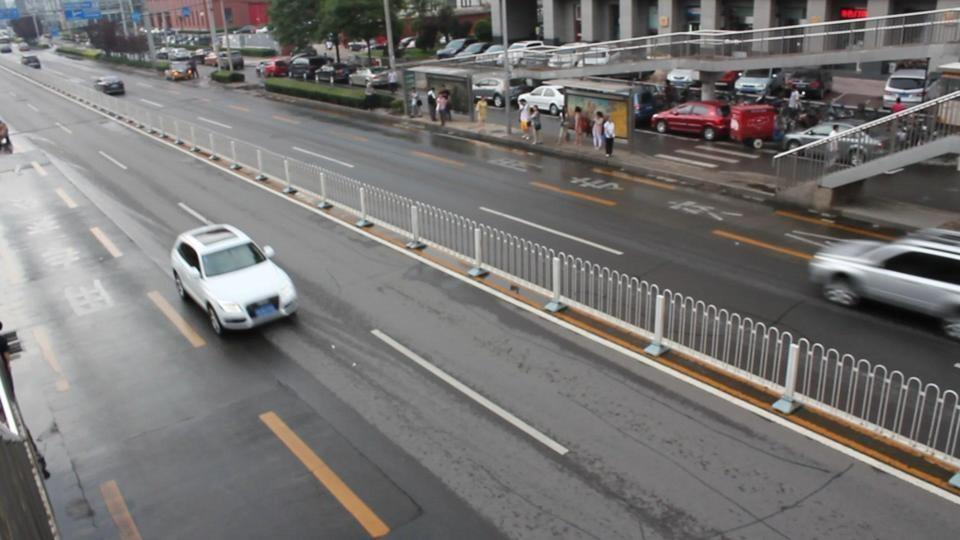car: (807, 227, 959, 337), (169, 223, 299, 336), (522, 79, 653, 126), (780, 121, 886, 163), (651, 101, 733, 141), (470, 77, 540, 108), (883, 64, 930, 108), (436, 40, 506, 63), (734, 68, 784, 100), (520, 85, 567, 115), (315, 63, 357, 86), (164, 53, 198, 80), (257, 57, 292, 78), (93, 76, 127, 95), (0, 120, 12, 153), (21, 53, 41, 69), (0, 40, 13, 54)
